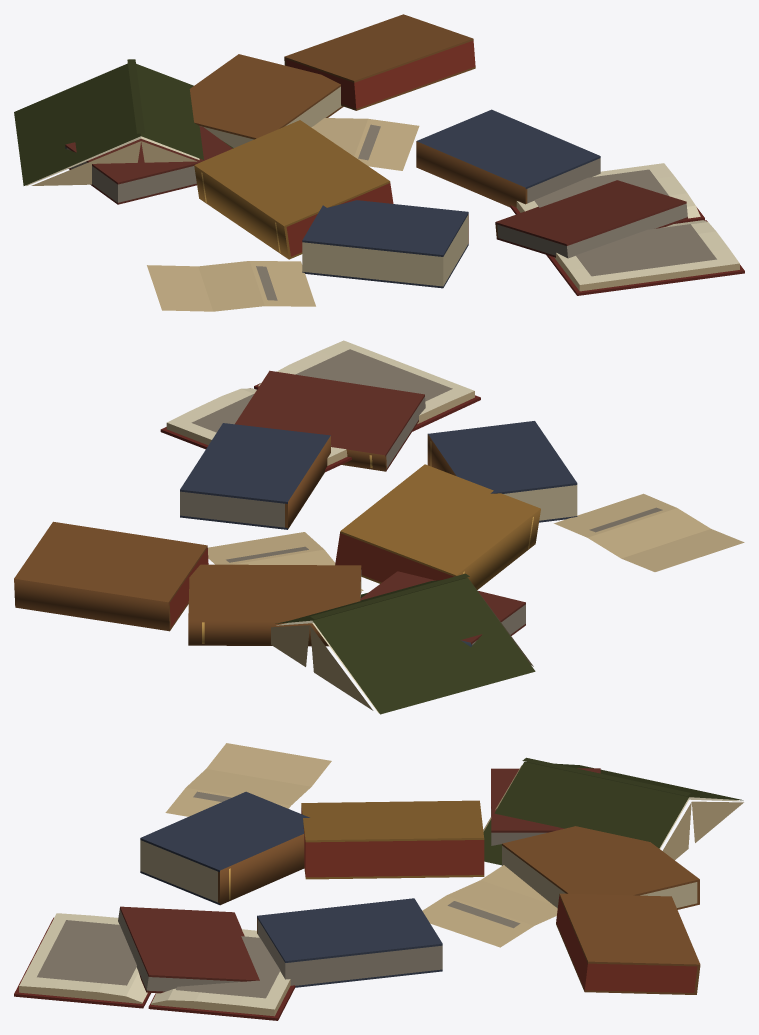
The model's file is books_fallen@2.glb.
3 renders of one model, top to bottom at view 1: azimuth 30°, elevation 25°; view 2: azimuth 150°, elevation 25°; view 3: azimuth 270°, elevation 25°, orthographic. The views are drawn at different scales.
Parts seen in each view (by area): view 1: buecher; view 2: buecher; view 3: buecher.
Part boxes in pixels (bbox=[...]): buecher: bbox=[14, 14, 744, 311]; buecher: bbox=[14, 340, 744, 714]; buecher: bbox=[14, 743, 743, 1020].
Bounding box in the file's own units: 0.9023 × 0.0953 × 1.03.
